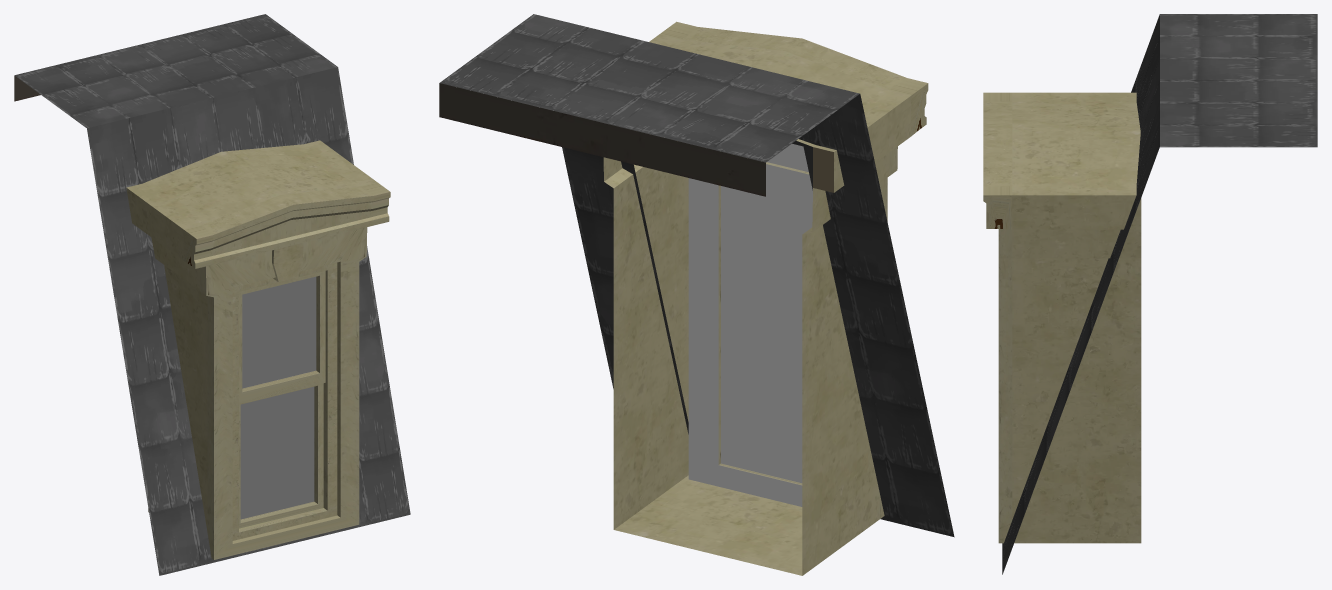
File: Roof_Slate_Window_1.glb
3 views of the same model, side by side, from view 1: azimuth 30°, elevation 25°; view 2: azimuth 150°, elevation 25°; view 3: azimuth 270°, elevation 25° (orthographic). The views are drawn at different scales.
Parts seen in each view (by area): view 1: Roof_Slate_Window_1; view 2: Roof_Slate_Window_1; view 3: Roof_Slate_Window_1.
Part boxes in pixels (x1=…): Roof_Slate_Window_1: x1=14, y1=14, x2=410, y2=575; Roof_Slate_Window_1: x1=439, y1=14, x2=954, y2=575; Roof_Slate_Window_1: x1=983, y1=14, x2=1317, y2=574.
Bounding box in the file's own units: 2 × 3 × 2.12.
Materials: 5 (3 with a texture image).
